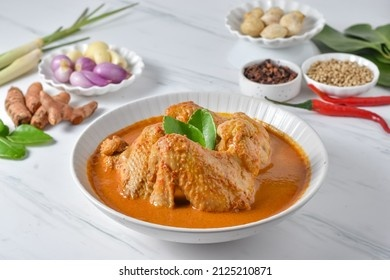gulai_ayam: (78, 101, 309, 228)
